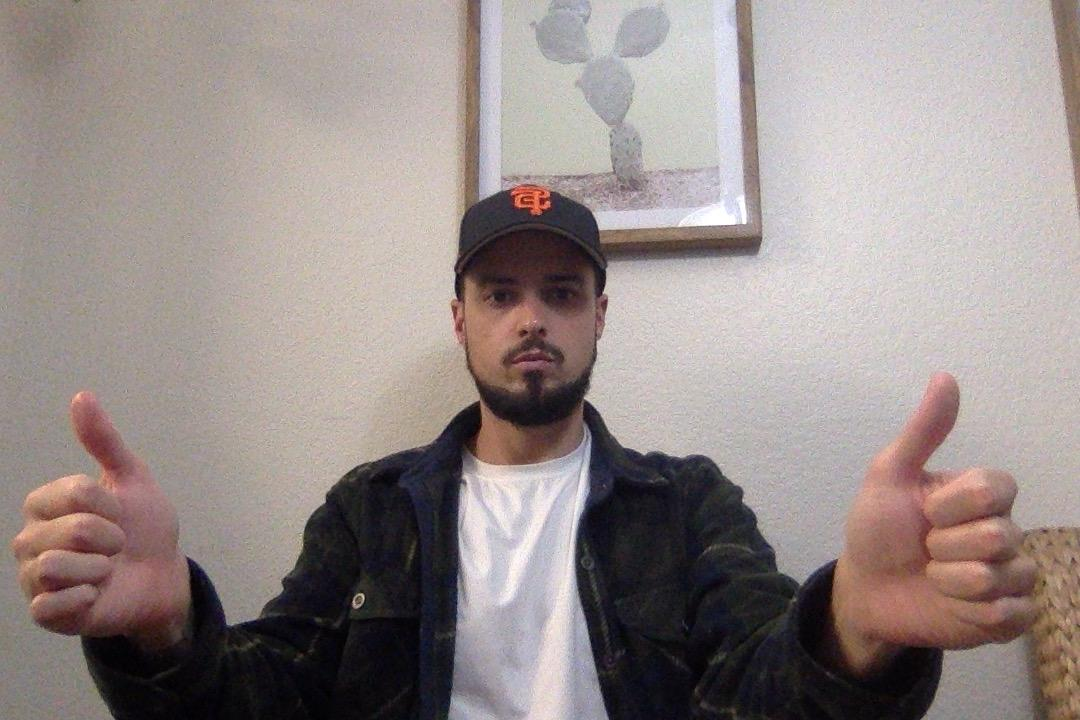Thumbs-Up: (817, 362, 1052, 663), (4, 383, 197, 668)
